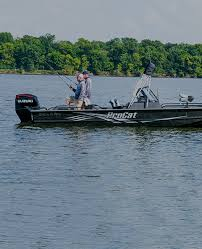boat: (14, 61, 202, 130)
